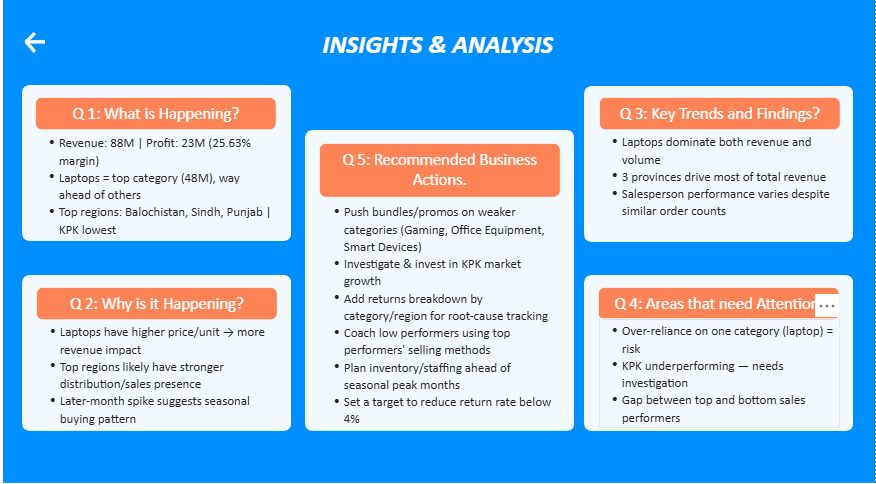

This screenshot's page, from the dashboard's own definition file:
{"tool":"powerbi","page":{"name":"Insights & Analysis","canvas":[1280,720],"ordinal":2},"visuals":[{"type":"shape","box":[15.8,8.6,1264.3,702.7],"z":0},{"type":"textbox","box":[42.9,47.2,1205.3,57.6],"z":24,"group":"g1"},{"type":"shape","box":[43.2,135.4,390.2,226.1],"z":1000},{"type":"group","id":"g1","title":"Group 5","box":[42.9,47.2,1205.3,57.6],"z":2000},{"type":"shape","box":[453.6,200.2,390.2,436.3],"z":3000},{"type":"shape","box":[858.2,135.9,390.2,226.1],"z":4000},{"type":"shape","box":[43.2,410,390.2,226.1],"z":5000},{"type":"shape","box":[858.2,410.5,390.2,226.1],"z":6000},{"type":"textbox","box":[61.9,152.6,349.9,47.5],"z":7000},{"type":"textbox","box":[473.8,218.9,349.9,79.2],"z":8000},{"type":"textbox","box":[63.4,427.7,349.9,47.5],"z":9000},{"type":"textbox","box":[878.4,427.7,349.9,47.5],"z":10000},{"type":"textbox","box":[879.8,152.6,349.9,47.5],"z":11000},{"type":"textbox","box":[63.4,200.2,348.5,159.8],"z":12000},{"type":"textbox","box":[64.8,473.8,348.5,159.8],"z":13000},{"type":"textbox","box":[476.6,299.5,348.5,337],"z":14000},{"type":"textbox","box":[879.8,198.7,348.5,159.8],"z":15000},{"type":"textbox","box":[879.8,472.3,348.5,159.8],"z":16000},{"type":"actionButton","box":[42.9,53.6,100,39.3],"z":17000}]}

Visuals, with their boxes in screenshot pixels (x1, y1, x2, y2), scaled from the page's 1280x720 canvas onto the 876x484 screenshot:
shape: rect(11, 6, 875, 478)
textbox: rect(29, 32, 854, 70)
shape: rect(30, 91, 297, 243)
"Group 5" group: rect(29, 32, 854, 70)
shape: rect(310, 135, 577, 428)
shape: rect(587, 91, 854, 243)
shape: rect(30, 276, 297, 428)
shape: rect(587, 276, 854, 428)
textbox: rect(42, 103, 282, 135)
textbox: rect(324, 147, 564, 200)
textbox: rect(43, 288, 283, 319)
textbox: rect(601, 288, 841, 319)
textbox: rect(602, 103, 842, 135)
textbox: rect(43, 135, 282, 242)
textbox: rect(44, 318, 283, 426)
textbox: rect(326, 201, 565, 428)
textbox: rect(602, 134, 841, 241)
textbox: rect(602, 317, 841, 425)
actionButton: rect(29, 36, 98, 62)
